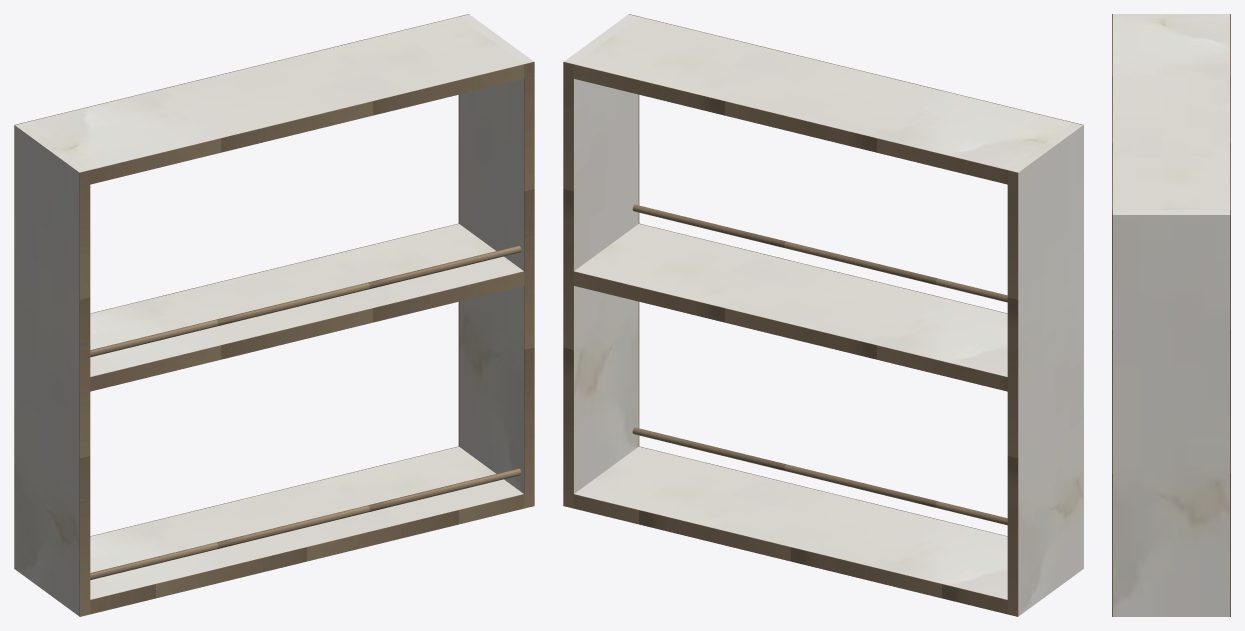
Rendered from Tark 600mm.glb.
3 views of the same model, side by side, from view 1: azimuth 30°, elevation 25°; view 2: azimuth 150°, elevation 25°; view 3: azimuth 270°, elevation 25° (orthographic). The views are drawn at different scales.
Size of the model in its own units: 0.6 by 0.56 by 0.15.
2 materials, 2 textured.
